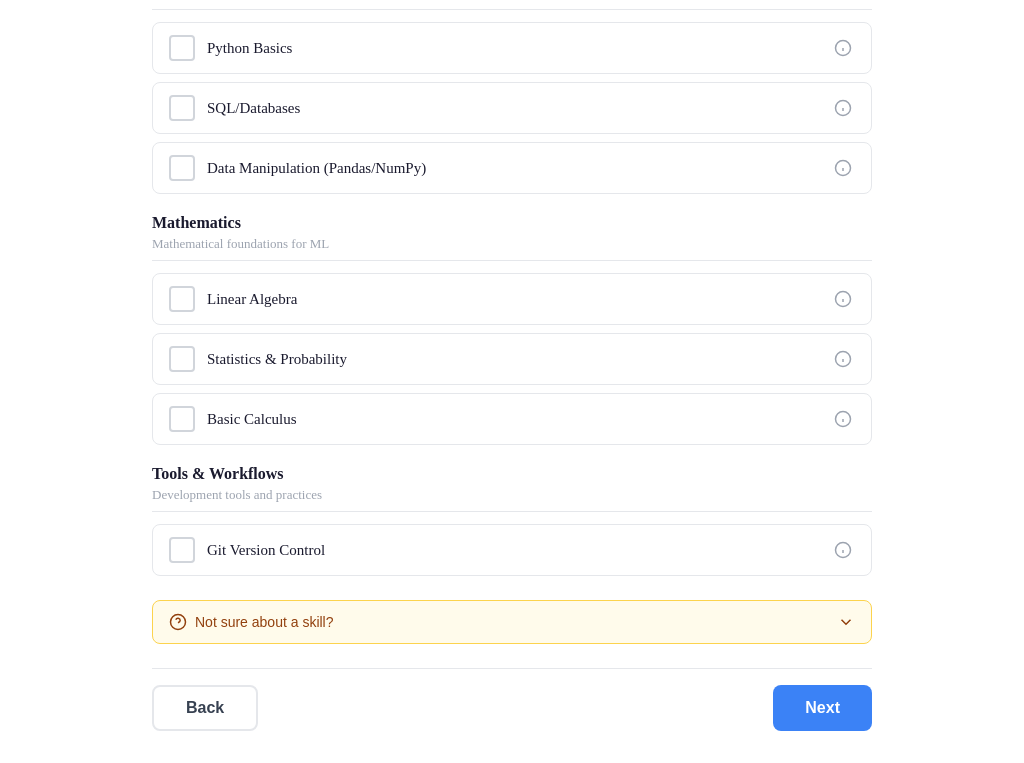
Test case: Step4ExistingSkills › Not Sure info panel › should expand Not Sure content when button is clicked
(page scrolled)
Click the button with test id "not-sure-btn".
click(264, 622)  # box [153,601,871,643]
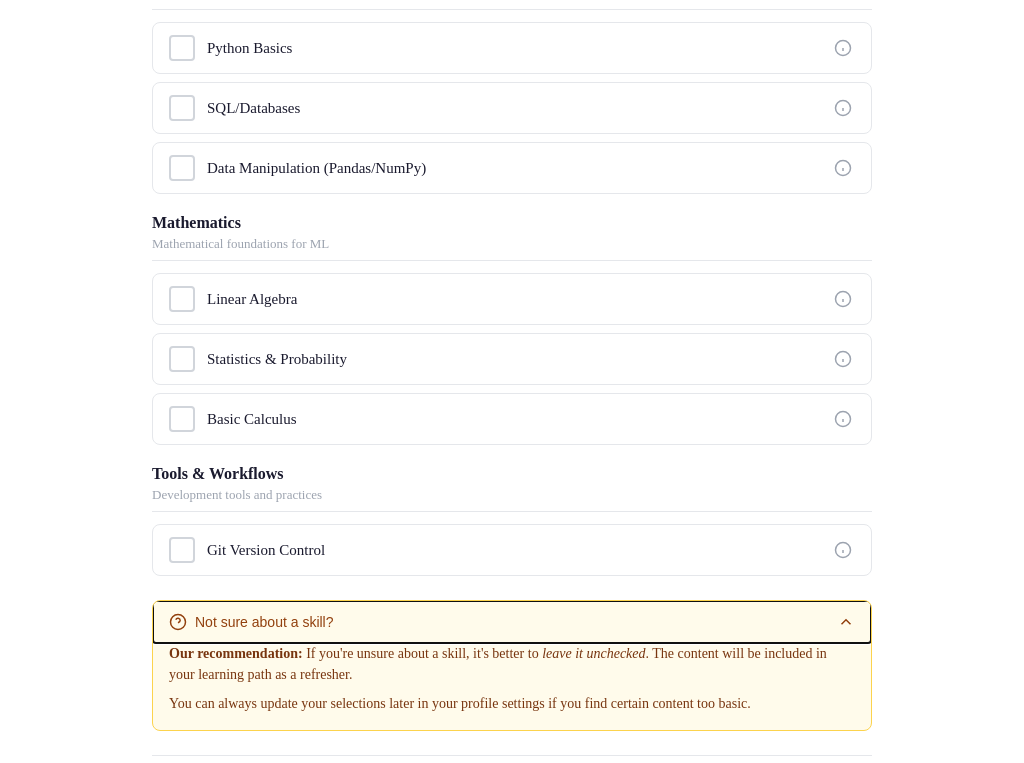
Now the element with test id "not-sure-content" is shown, box [153,643,871,730]
